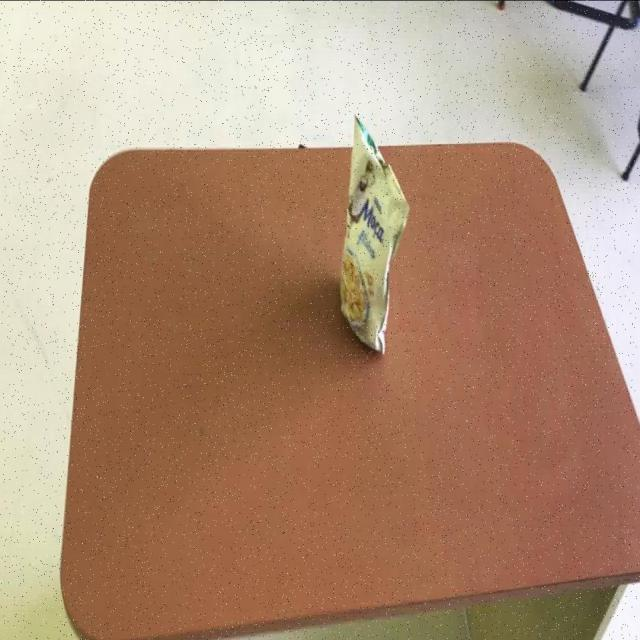CornFlakes: (338, 116, 410, 355)
